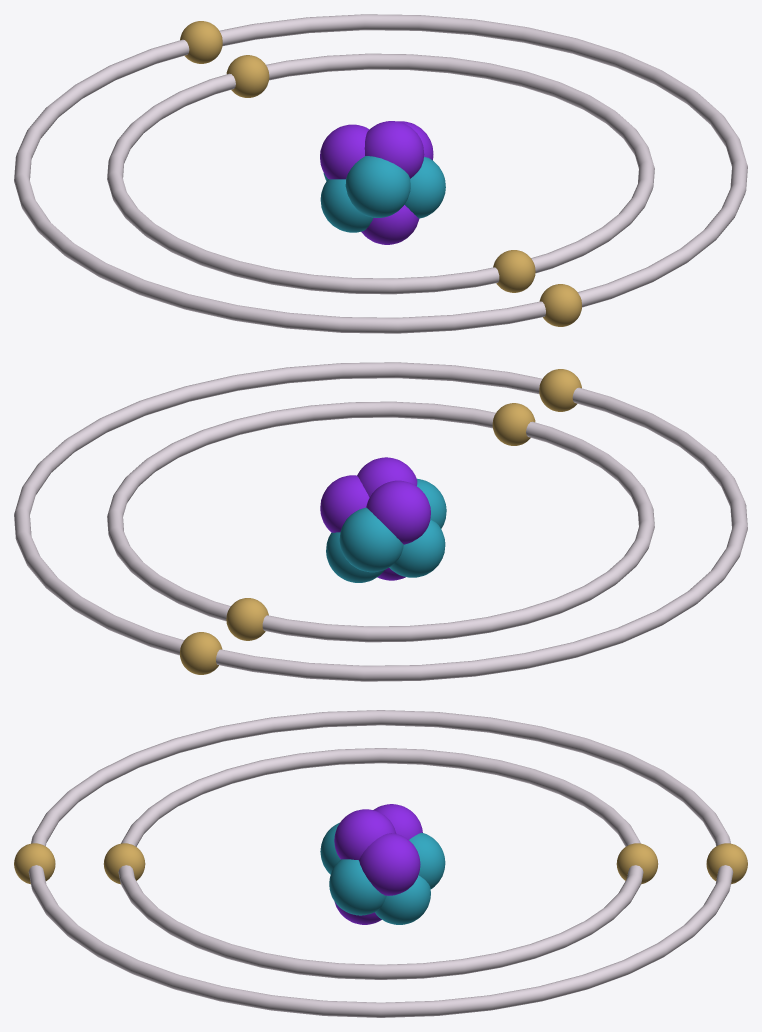
Rendered from berilio.glb.
3 views of the same model, one above another, from view 1: azimuth 30°, elevation 25°; view 2: azimuth 150°, elevation 25°; view 3: azimuth 270°, elevation 25° (orthographic). The views are drawn at different scales.
Parts seen in each view (by area): view 1: Orbita_2, Orbita_1, Nucleo_Completo, Eletron_1, Eletron_C2_1, Eletron_2, Eletron_C2_2; view 2: Orbita_2, Orbita_1, Nucleo_Completo, Eletron_2, Eletron_C2_2, Eletron_1, Eletron_C2_1; view 3: Orbita_2, Orbita_1, Nucleo_Completo, Eletron_1, Eletron_2, Eletron_C2_1, Eletron_C2_2.
Part boxes in pixels (box(x1,y1,x2,y2)): Orbita_2: box(14, 14, 747, 333); Orbita_1: box(107, 53, 654, 294); Nucleo_Completo: box(320, 121, 445, 244); Eletron_1: box(493, 250, 535, 292); Eletron_C2_1: box(539, 284, 581, 326); Eletron_2: box(226, 55, 269, 97); Eletron_C2_2: box(180, 21, 222, 63); Orbita_2: box(14, 362, 747, 681); Orbita_1: box(107, 401, 654, 642); Nucleo_Completo: box(320, 457, 446, 582); Eletron_2: box(226, 598, 268, 640); Eletron_C2_2: box(180, 632, 222, 674); Eletron_1: box(492, 403, 535, 445); Eletron_C2_1: box(539, 369, 581, 411); Orbita_2: box(28, 710, 733, 1017); Orbita_1: box(118, 748, 643, 979); Nucleo_Completo: box(320, 804, 445, 924); Eletron_1: box(103, 843, 145, 884); Eletron_2: box(616, 843, 658, 884); Eletron_C2_1: box(14, 843, 55, 884); Eletron_C2_2: box(706, 843, 747, 884).
Size of the model in its own units: 2.76 by 0.4825 by 2.86.
